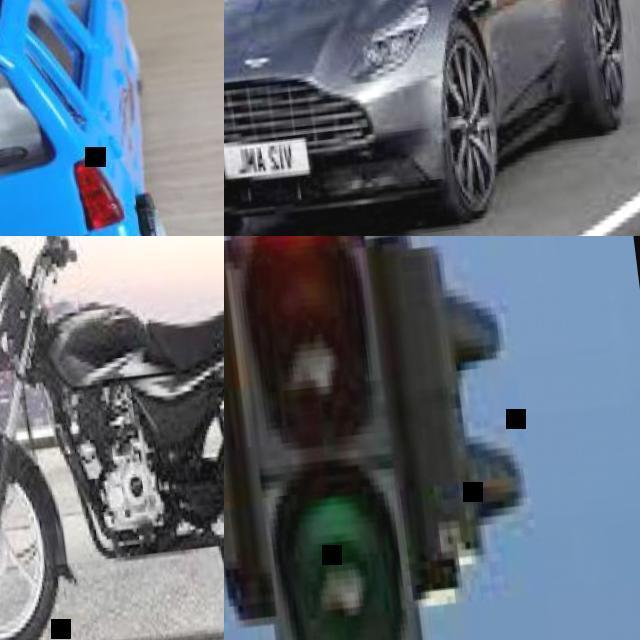car: (298, 0, 627, 223)
